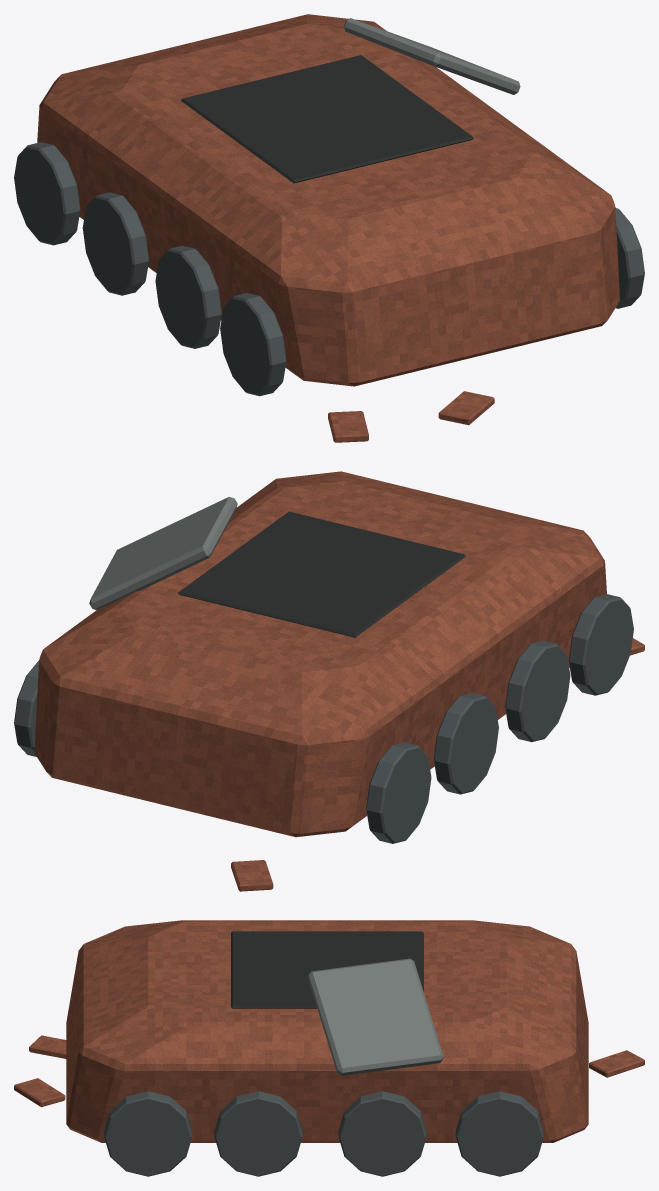
3 renders of one model, top to bottom at view 1: azimuth 30°, elevation 25°; view 2: azimuth 150°, elevation 25°; view 3: azimuth 270°, elevation 25°, orthographic. The views are drawn at different scales.
Parts seen in each view (by area): view 1: ST2-P07_Mesh; view 2: ST2-P07_Mesh; view 3: ST2-P07_Mesh.
Part boxes in pixels (x1,y1,x2,y2): ST2-P07_Mesh: [14, 14, 644, 442]; ST2-P07_Mesh: [14, 471, 644, 891]; ST2-P07_Mesh: [14, 920, 644, 1176].
Size of the model in its own units: 2.78 by 1.43 by 4.58.
